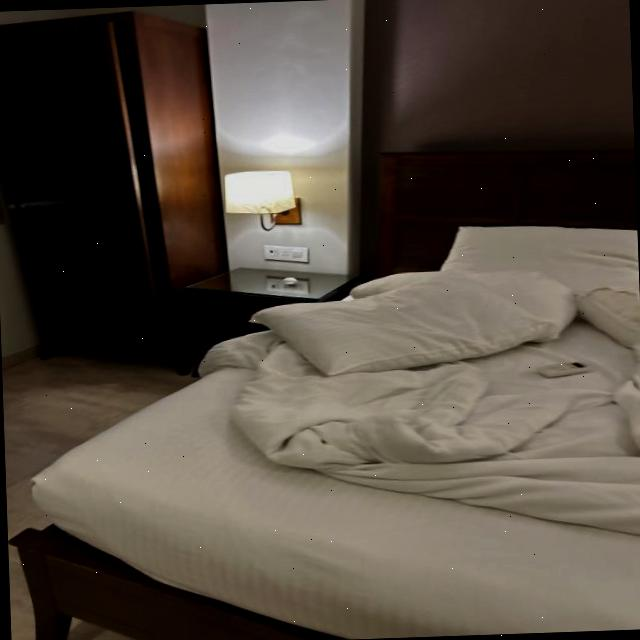Disorganized_pillow: (254, 226, 640, 378)
lamp: (214, 162, 284, 240)
mess: (244, 340, 548, 510)
messy_bed: (9, 150, 640, 640)
